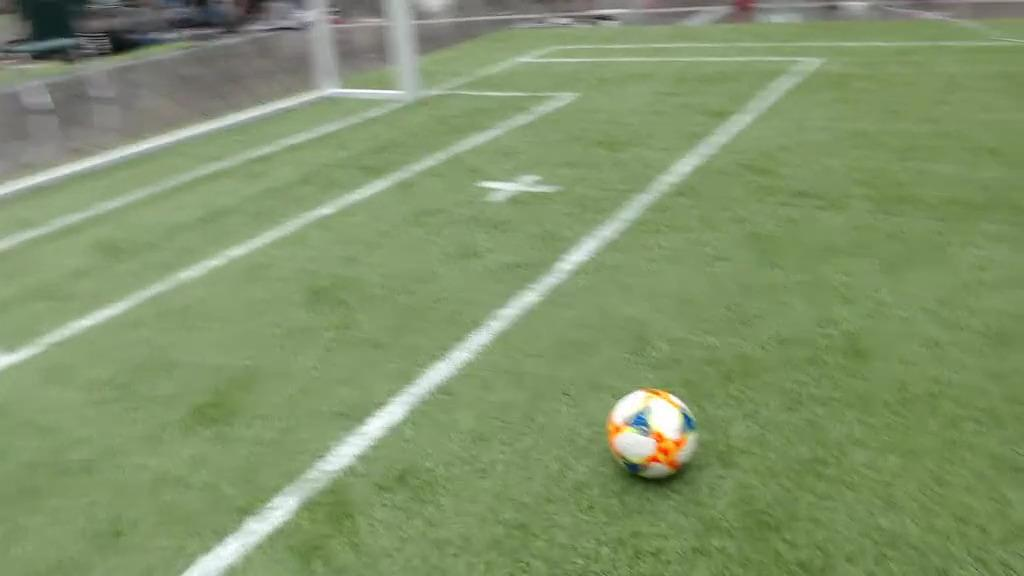ball: (608, 387, 694, 480)
